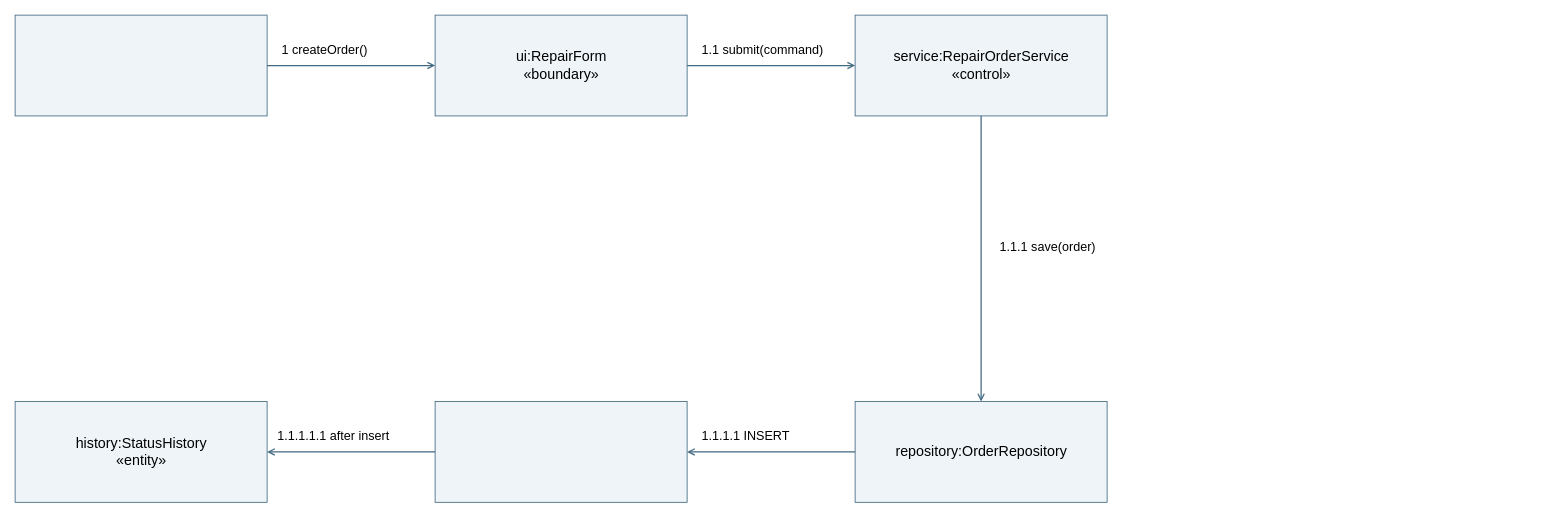
Image size: 1558x517. Some labels were removed from this diagram. The shapes that lost their labels are listed below. From the top down, each one's box as (x1, y1, x2, y2) in pixels, then its label:
(14, 14, 267, 116): :Диспетчер
(434, 401, 687, 502): db:sibka_pdm_v2 «database»
